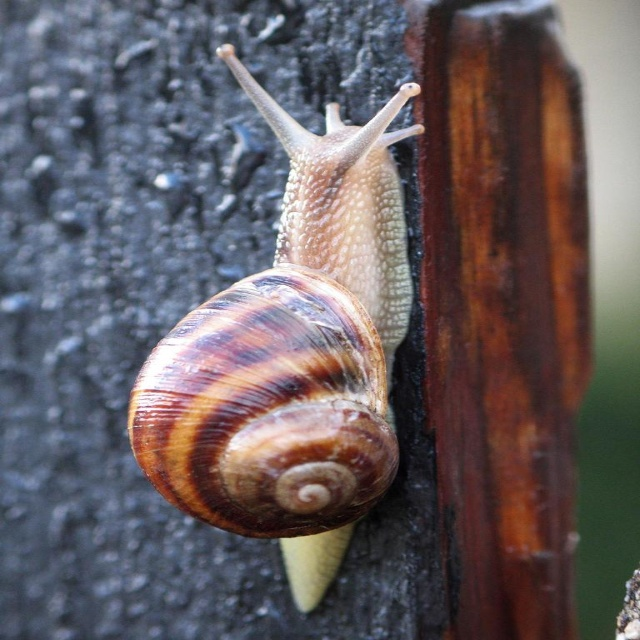Snail: (124, 41, 427, 617)
